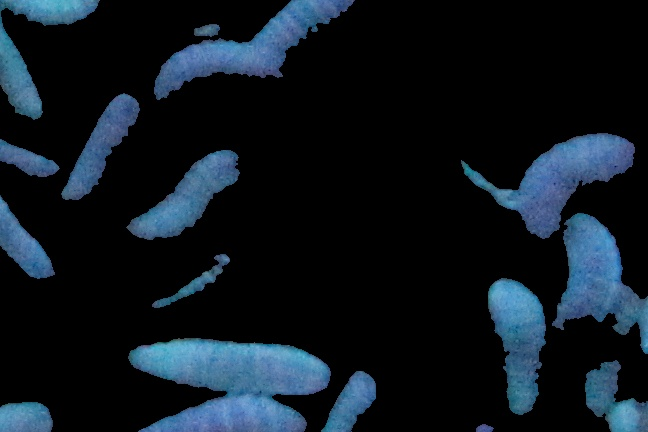larvae: (521, 123, 647, 247), (120, 342, 328, 401), (127, 152, 245, 242), (147, 45, 297, 113), (489, 280, 552, 430), (61, 97, 140, 211), (586, 291, 641, 415), (1, 171, 64, 278), (125, 396, 310, 432), (566, 207, 618, 330), (264, 1, 362, 59), (1, 1, 44, 130), (316, 368, 385, 432), (1, 139, 68, 190), (1, 1, 105, 30)
